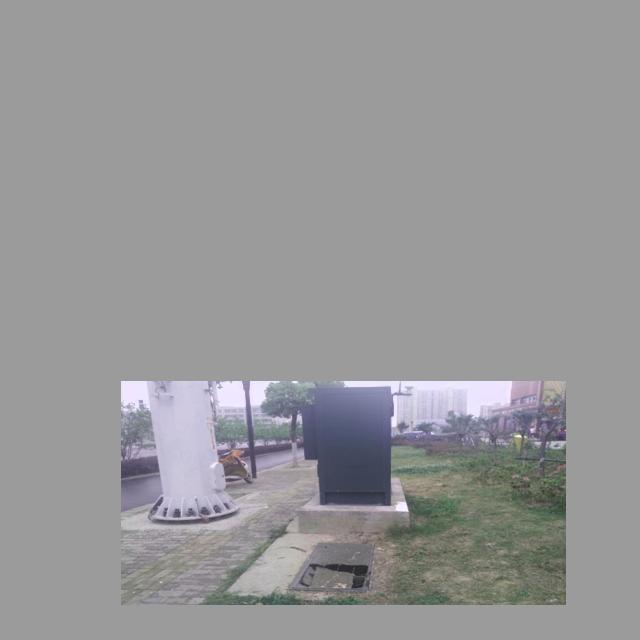broke: (287, 540, 376, 592)
